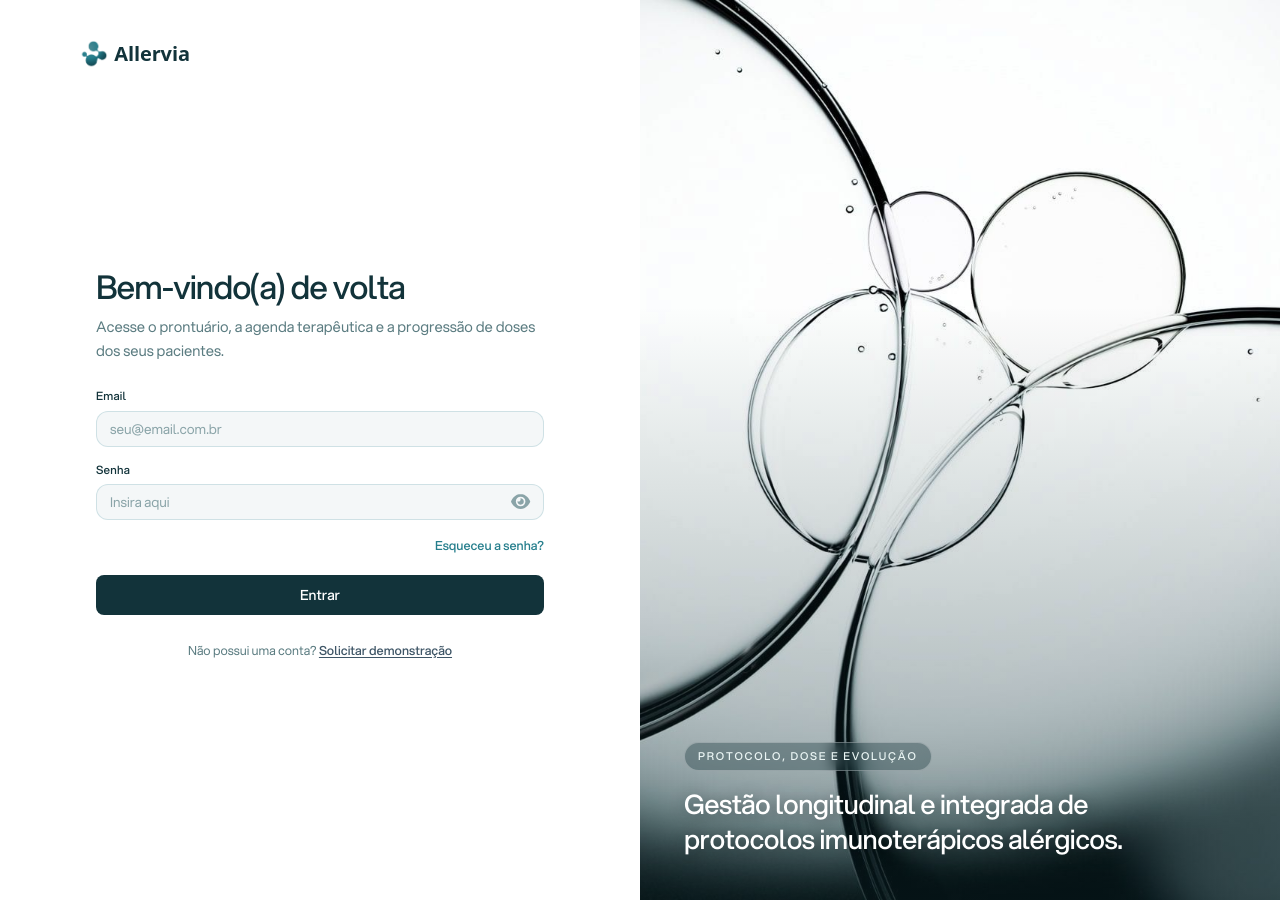
Test: entrada com sessão real › mostra a mensagem do servidor quando as credenciais são recusadas
Type "profissional@clinica.com.br" into the field with placeholder "seu@email.com.br". click: (320,428)
box: [96, 410, 544, 446]
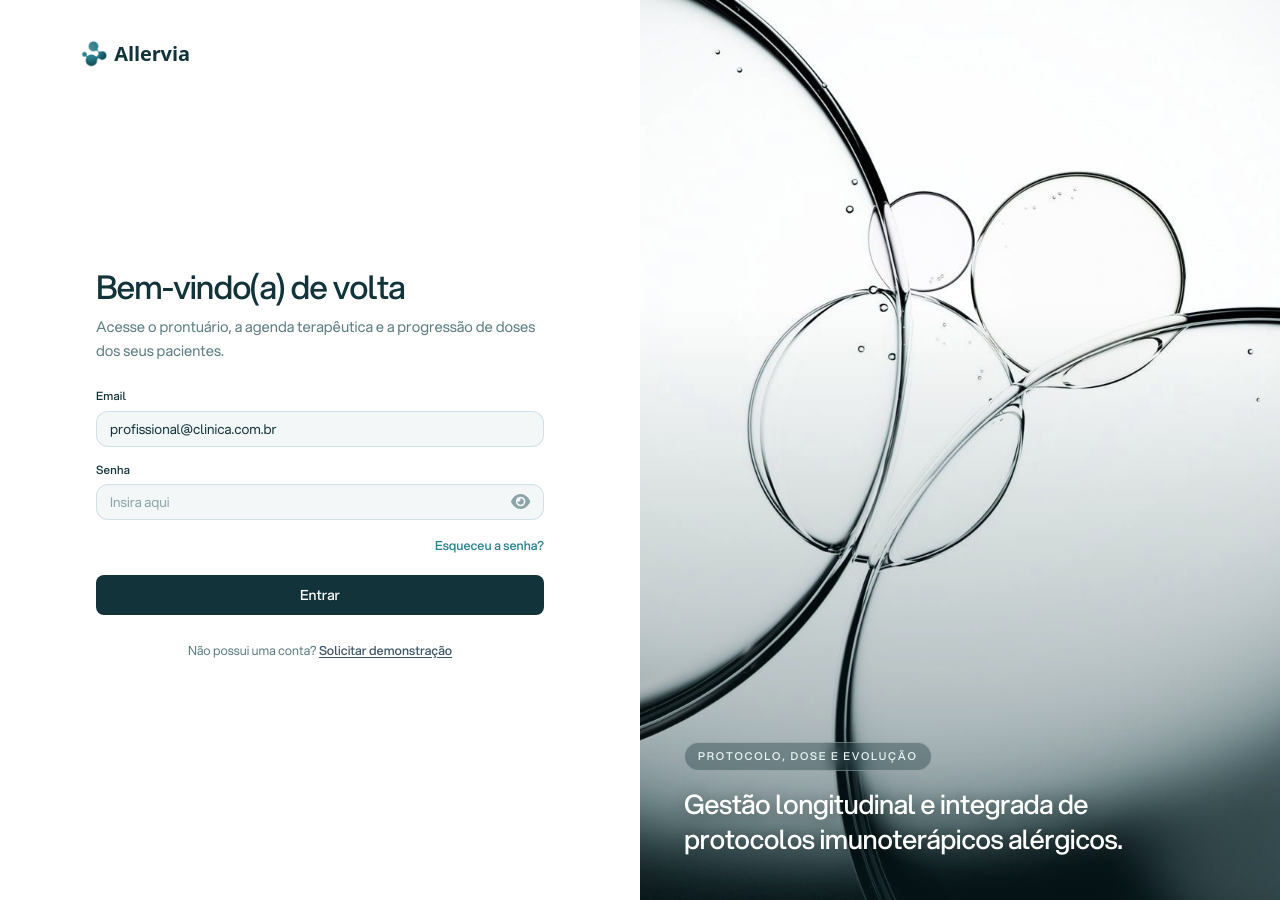
Type "Senha!Forte#2026" into the password field with placeholder "Insira aqui". click: (320,502)
box: [96, 484, 544, 520]
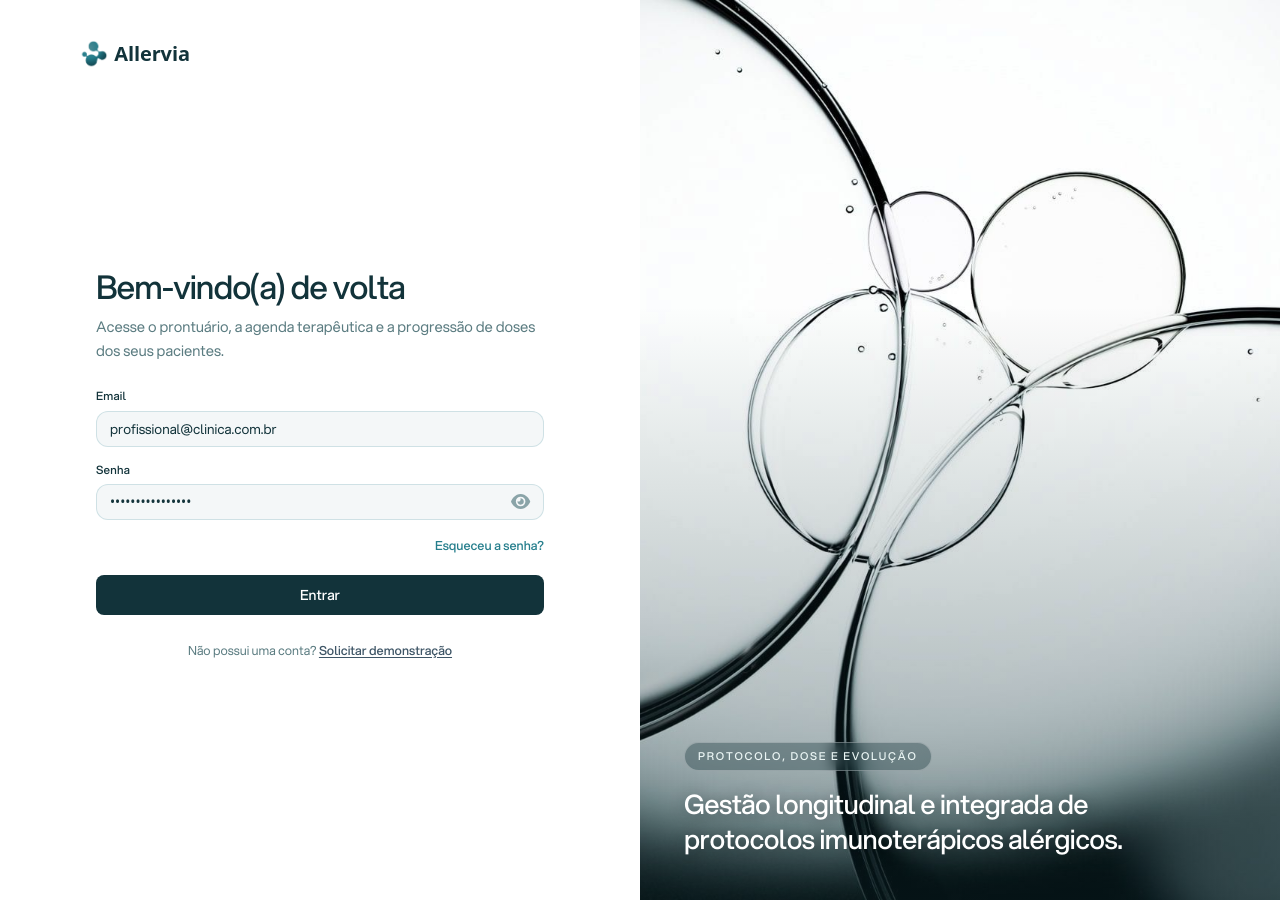
Click the button "Entrar". click: (320,594)
box: [96, 574, 544, 614]
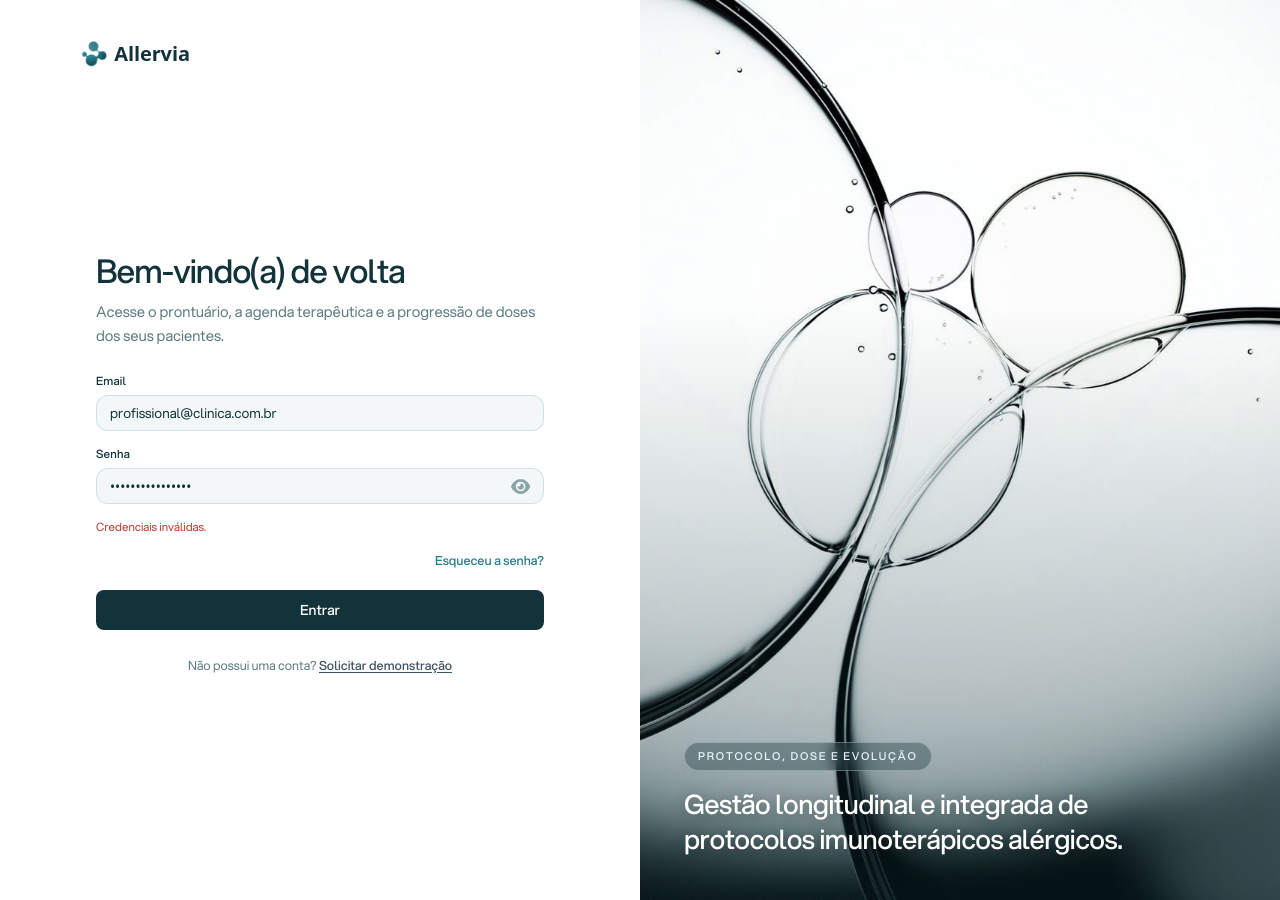
Expected: the message reads "Credenciais inválidas.", [96, 518, 206, 535]
